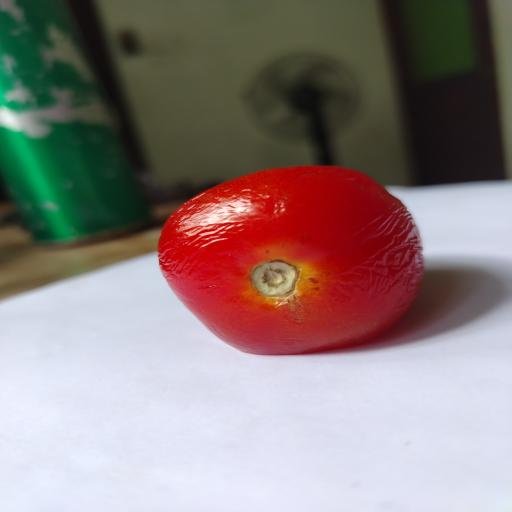spoiled: (159, 167, 422, 355)
